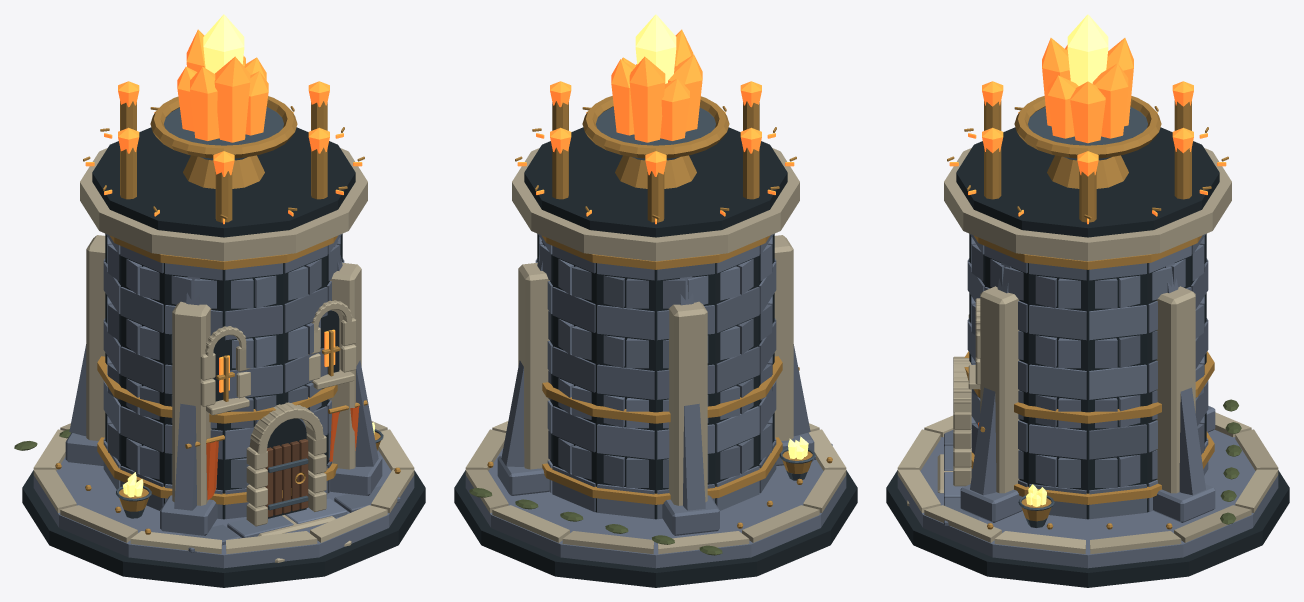
File: mage__piromante__L15.glb
3 renders of one model, left to right at view 1: azimuth 30°, elevation 25°; view 2: azimuth 150°, elevation 25°; view 3: azimuth 270°, elevation 25°, orthographic.
Parts seen in each view (by area): view 1: structure, weapon, banners; view 2: structure, weapon; view 3: structure, weapon.
Boxes of the visible parts, x1,y1,x2,y2 form: structure: (14,81,425,587); weapon: (150,14,297,188); banners: (185,400,367,499); structure: (454,81,857,587); weapon: (582,14,729,188); structure: (886,81,1289,587); weapon: (1014,14,1161,188).
Bounding box in the file's own units: 0.8624 × 1.15 × 0.8624.
